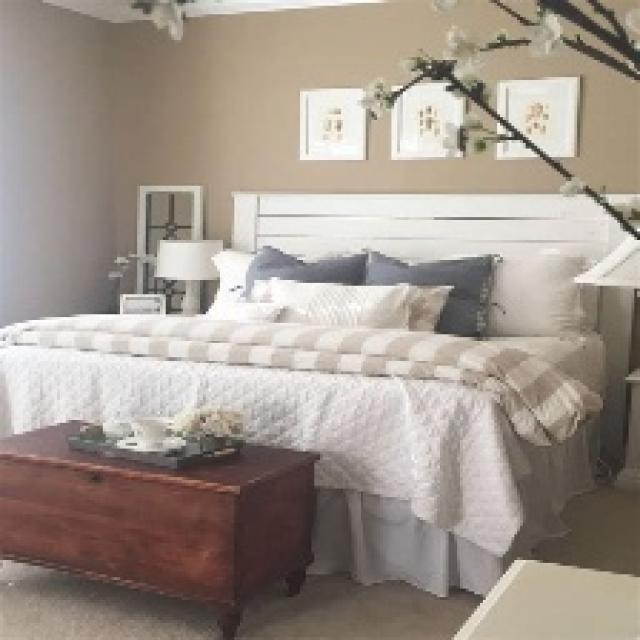Bed: (0, 186, 637, 597)
